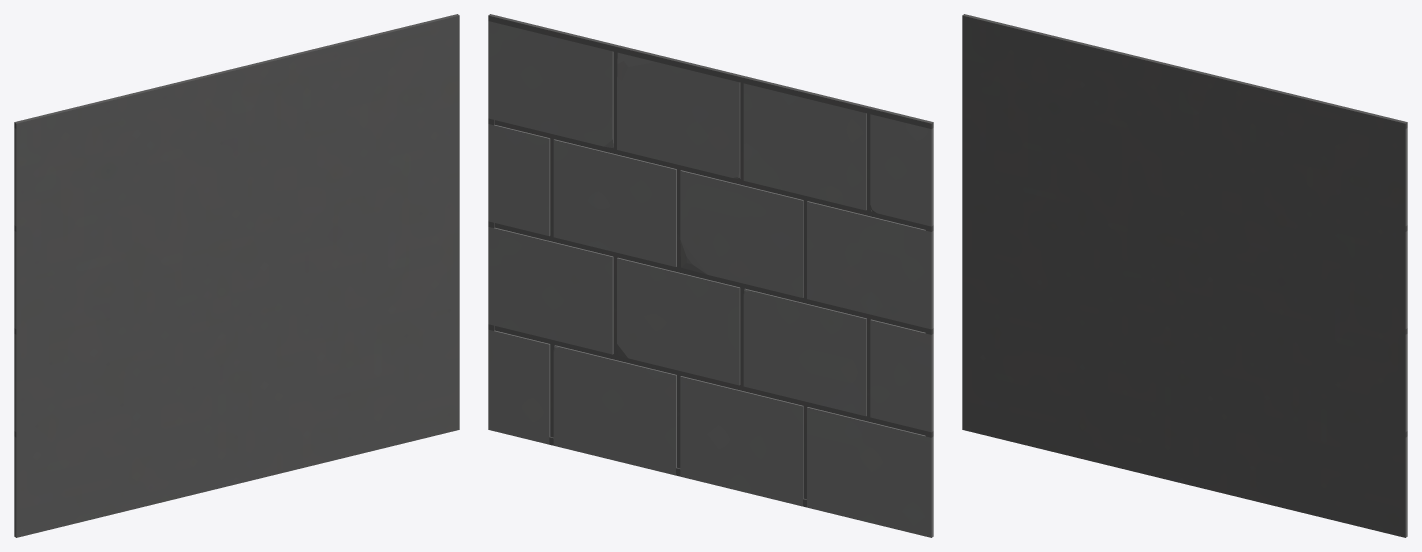
The model's file is Wall_OneSided.fbx.
3 renders of one model, left to right at view 1: azimuth 30°, elevation 25°; view 2: azimuth 150°, elevation 25°; view 3: azimuth 330°, elevation 25°, orthographic.
Visible parts, largest first — view 1: Wall_OneSided; view 2: Wall_OneSided; view 3: Wall_OneSided.
Part boxes in pixels (x1=…): Wall_OneSided: x1=14, y1=14, x2=459, y2=537; Wall_OneSided: x1=488, y1=14, x2=933, y2=537; Wall_OneSided: x1=962, y1=14, x2=1407, y2=537.
Size of the model in its own units: 280 by 250 by 2.32.
